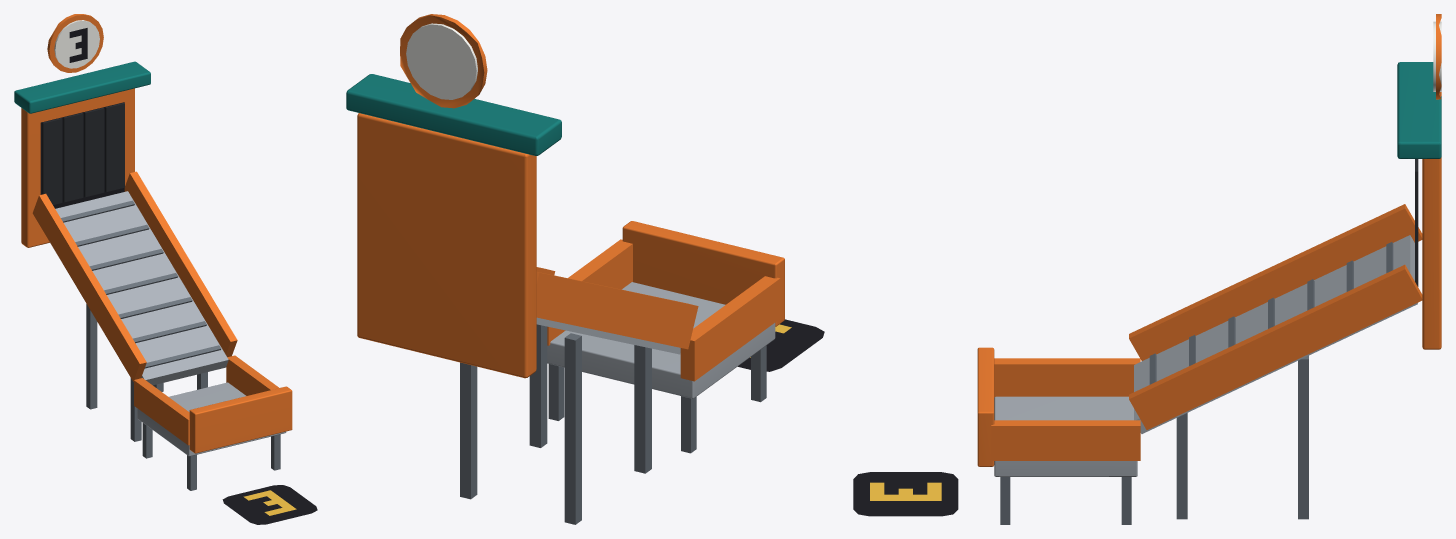
Rendered from Tobogan3.fbx.
3 views of the same model, side by side, from view 1: azimuth 30°, elevation 25°; view 2: azimuth 150°, elevation 25°; view 3: azimuth 270°, elevation 25° (orthographic). The views are drawn at different scales.
Parts seen in each view (by area): view 1: Tobogan3; view 2: Tobogan3; view 3: Tobogan3.
Part boxes in pixels (x1,y1,x2,y2): Tobogan3: [14, 14, 317, 524]; Tobogan3: [346, 14, 824, 524]; Tobogan3: [853, 14, 1441, 524].
Size of the model in its own units: 3.5 by 9.53 by 10.65.
Materials: 1 (1 with a texture image).
